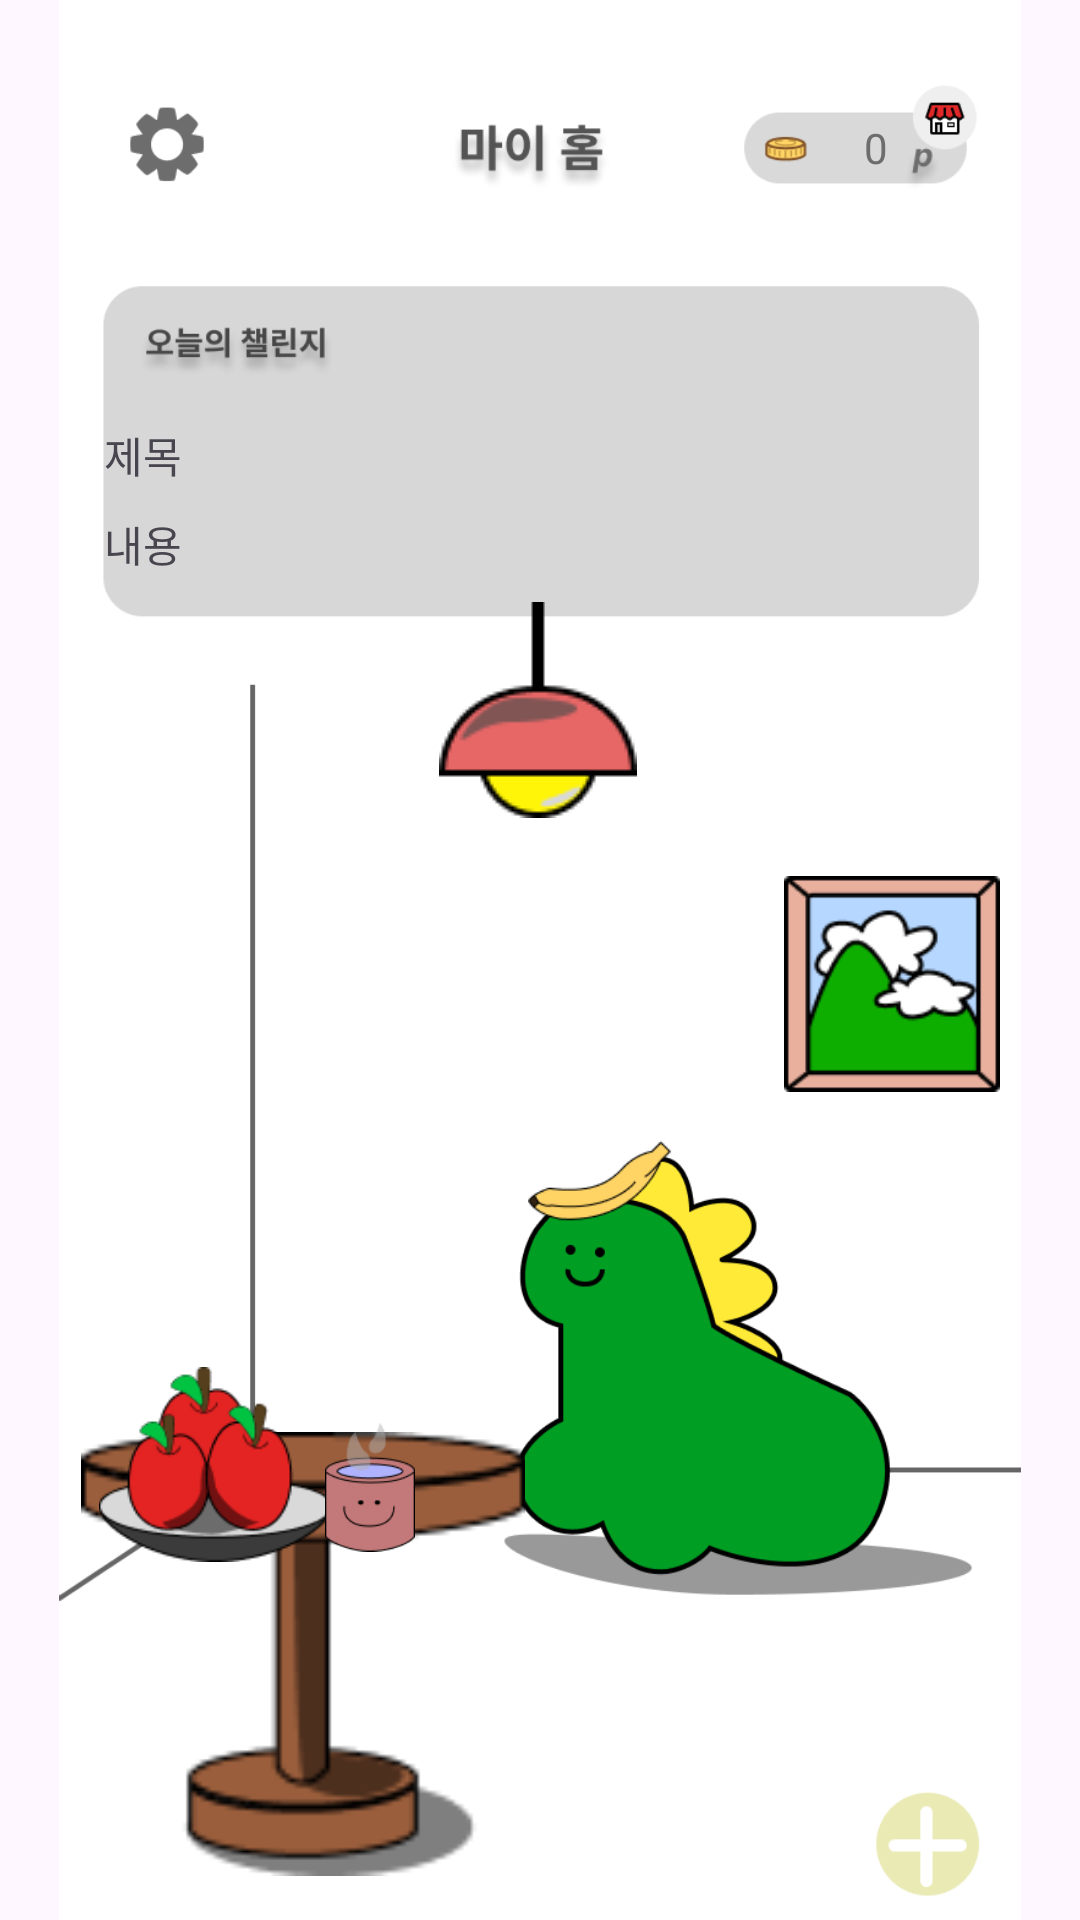

Where to tap for icons on this 1080*1920 app screen, as (x=x, y=y):
item photo frame: (x=892, y=984)
